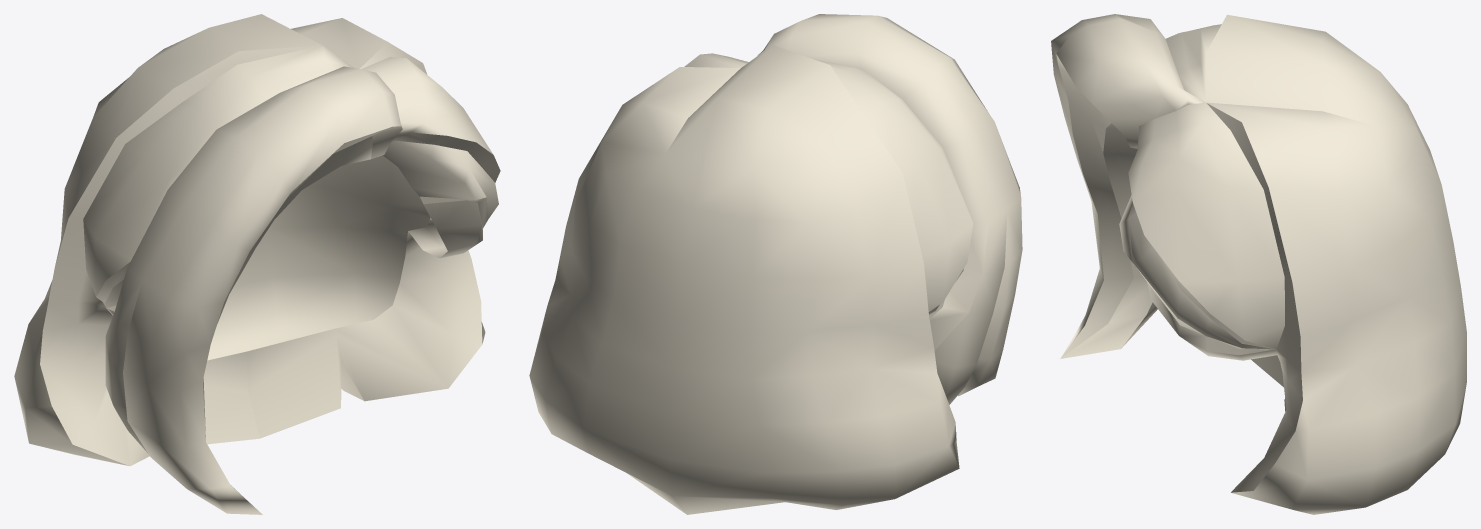
Rendered from Hair_27.fbx.
3 renders of one model, left to right at view 1: azimuth 30°, elevation 25°; view 2: azimuth 150°, elevation 25°; view 3: azimuth 270°, elevation 25°, orthographic. The views are drawn at different scales.
Visible parts, largest first — view 1: Hair_27; view 2: Hair_27; view 3: Hair_27.
Part boxes in pixels (x1,y1,x2,y2): Hair_27: [14, 14, 500, 514]; Hair_27: [529, 14, 1022, 514]; Hair_27: [1051, 14, 1466, 514].
Size of the model in its own units: 68.56 by 63.76 by 55.89.
